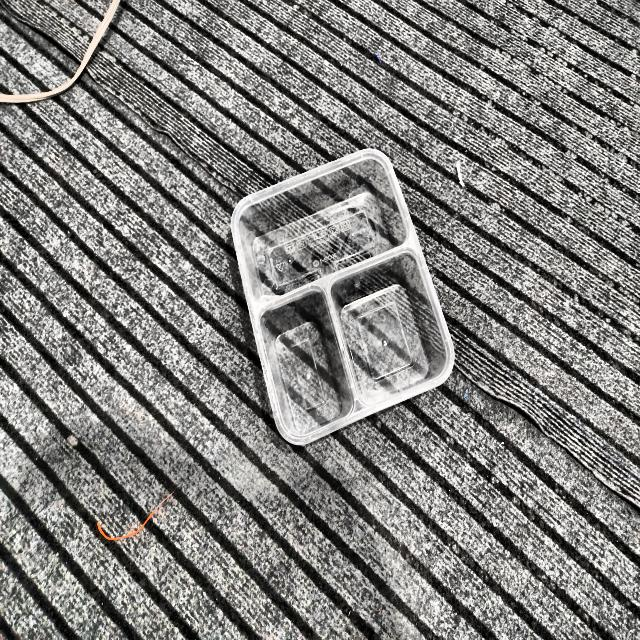plastic container: (231, 148, 454, 445)
